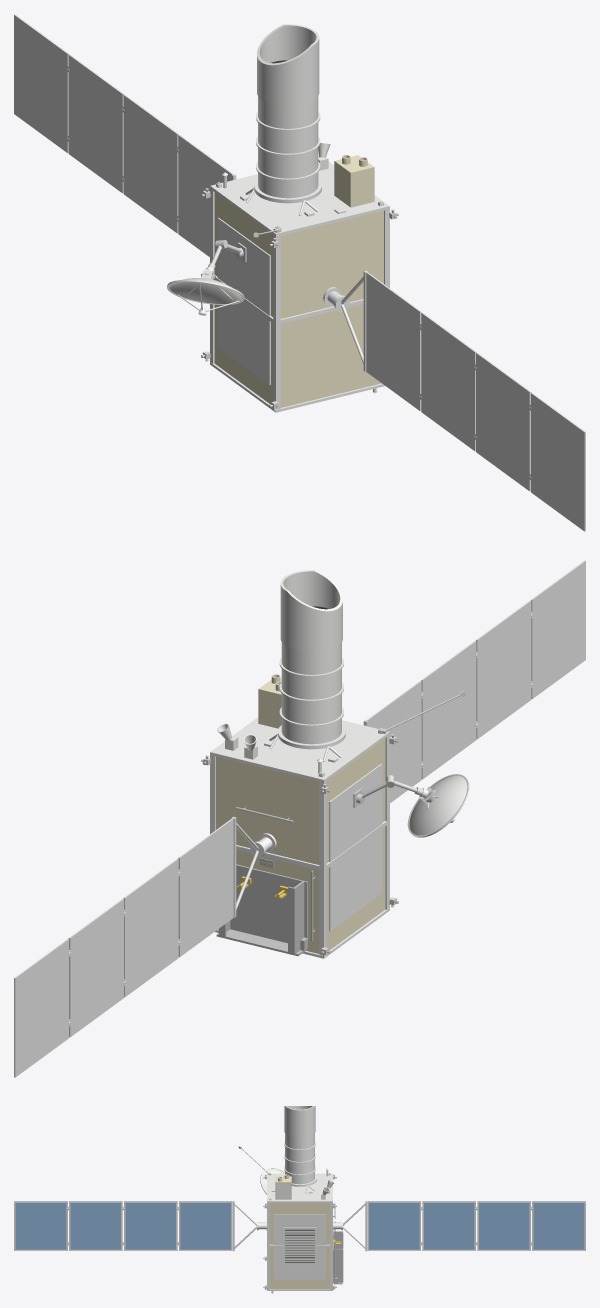
Rendered from satellite-aurora7.glb.
3 renders of one model, top to bottom at view 1: azimuth 30°, elevation 25°; view 2: azimuth 150°, elevation 25°; view 3: azimuth 270°, elevation 25°, orthographic. The views are drawn at different scales.
Visible parts, largest first — view 1: array-intact-back, array-intact-2-back, mli-bus, telescope-tube, radiator-nx, deck-top, array-intact-structure, bus-frame, array-intact-2-structure, spectrometer, hga-dish, deck-bottom (+1 smaller); view 2: array-intact-2-back, array-intact-back, mli-bus, telescope-tube, radiator-nx, replacement-bracket, deck-top, array-intact-2-structure, bus-frame, array-intact-structure, hga-dish, spectrometer (+1 smaller); view 3: array-intact-cells, array-intact-2-cells, radiator-px, telescope-tube, mli-bus, array-intact-structure, array-intact-2-structure, deck-top, radiator-louvers, array-intact-back, array-intact-2-back, bus-frame (+1 smaller).
Boxes of the visible parts, box(x1,y1,x2,y2) form: array-intact-back: box(367, 276, 583, 528); array-intact-2-back: box(15, 17, 230, 254); mli-bus: box(214, 192, 383, 407); telescope-tube: box(256, 24, 320, 198); radiator-nx: box(217, 217, 270, 384); deck-top: box(210, 162, 389, 236); array-intact-structure: box(323, 271, 585, 531); bus-frame: box(210, 188, 389, 409); array-intact-2-structure: box(14, 14, 236, 256); spectrometer: box(334, 155, 374, 207); hga-dish: box(167, 273, 244, 304); deck-bottom: box(210, 362, 384, 412); array-intact-2-back: box(16, 822, 232, 1074); array-intact-back: box(369, 563, 584, 800); mli-bus: box(216, 738, 385, 953); telescope-tube: box(279, 570, 343, 744); radiator-nx: box(329, 763, 382, 930); replacement-bracket: box(216, 864, 307, 956); deck-top: box(210, 717, 389, 782); array-intact-2-structure: box(14, 817, 276, 1077); bus-frame: box(210, 734, 389, 955); array-intact-structure: box(363, 560, 585, 802); hga-dish: box(407, 774, 469, 837); spectrometer: box(258, 674, 281, 728); array-intact-cells: box(15, 1202, 230, 1249); array-intact-2-cells: box(369, 1202, 584, 1249); radiator-px: box(274, 1214, 325, 1279); telescope-tube: box(284, 1106, 315, 1184); mli-bus: box(269, 1203, 330, 1289); array-intact-structure: box(14, 1201, 266, 1251); array-intact-2-structure: box(333, 1201, 585, 1251); deck-top: box(267, 1173, 332, 1202); radiator-louvers: box(283, 1227, 316, 1264); array-intact-back: box(15, 1202, 231, 1249); array-intact-2-back: box(368, 1202, 584, 1249); bus-frame: box(267, 1202, 332, 1289).
Size of the model in its own units: 4.45 by 7.1 by 20.82.
